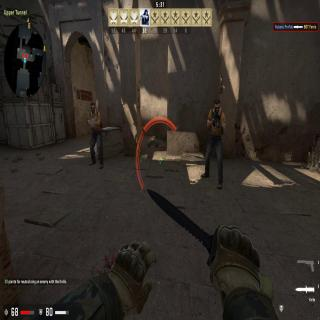T-Body: (202, 99, 226, 189), (87, 100, 103, 168)
T-Head: (214, 100, 221, 114), (90, 102, 95, 112)
